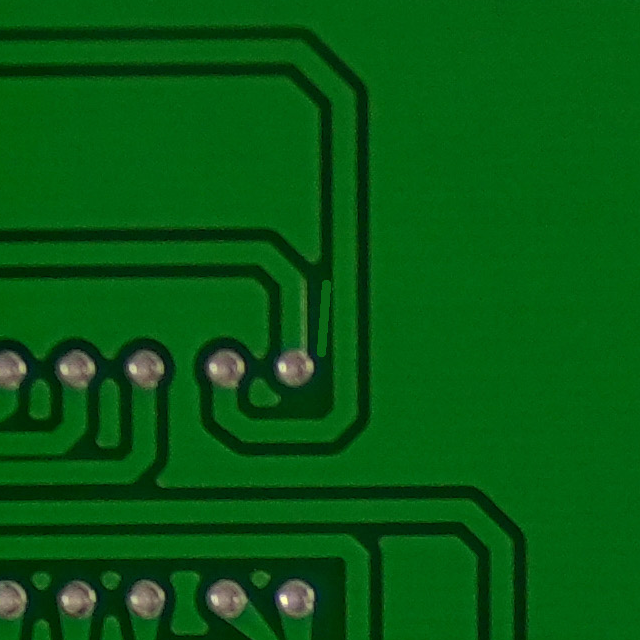spurious_copper: (298, 272, 342, 369)
